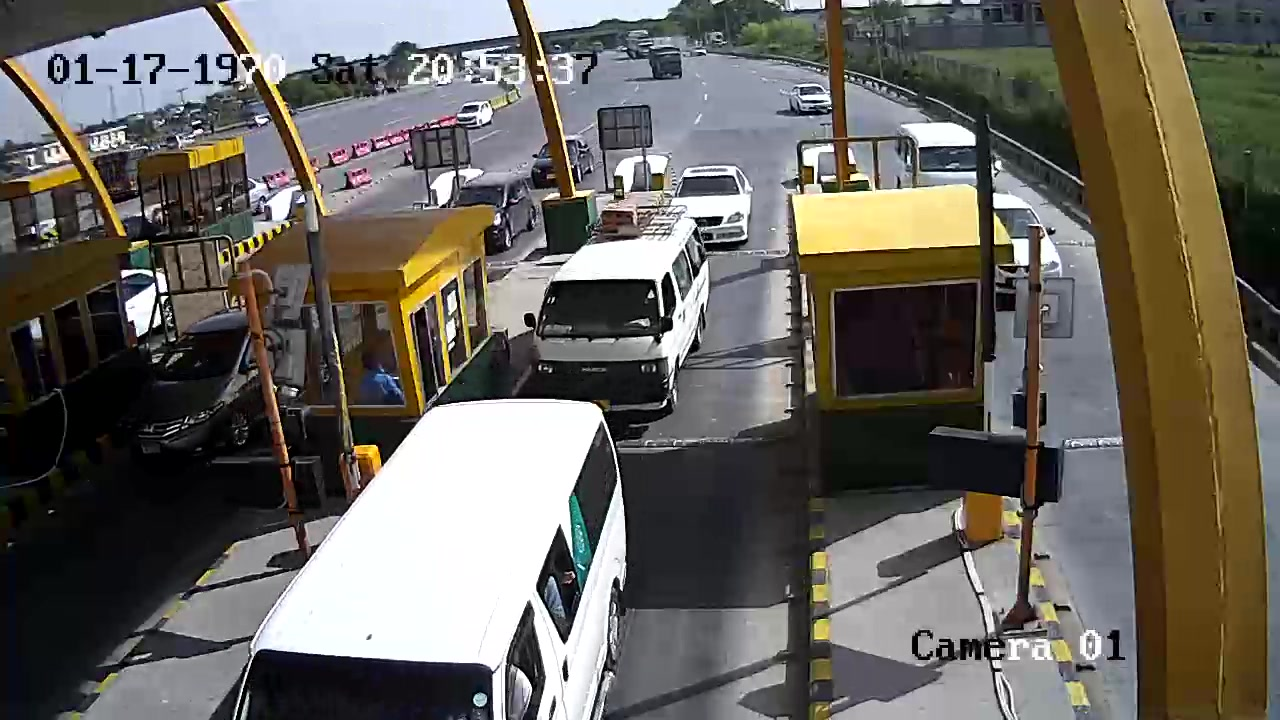F3: (533, 201, 711, 396)
